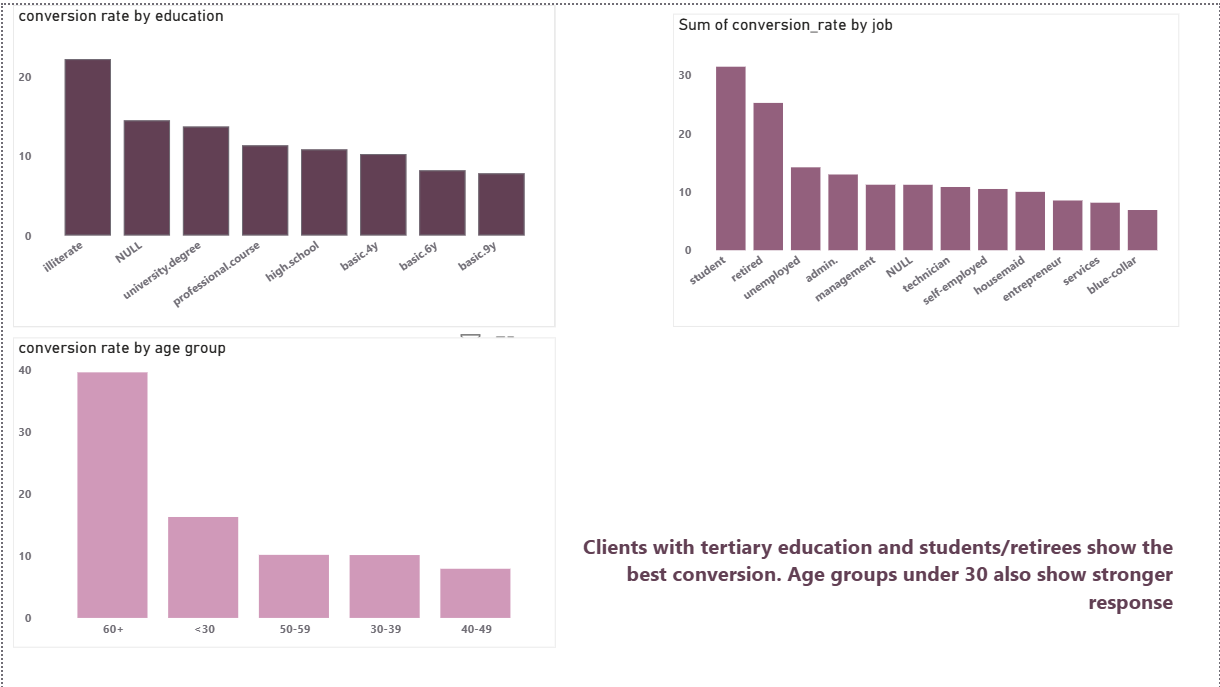

The page's visual inventory and layout, read from the dashboard file:
{"tool":"powerbi","page":{"name":"Deep Insights","canvas":[1280,720],"ordinal":1},"visuals":[{"type":"clusteredColumnChart","title":" conversion rate by education","fields":{"Category":["q3_conversion_education.education"],"Y":["Sum(q3_conversion_education.conversion_rate)"]},"box":[11,0,570.8,338.9],"z":0},{"type":"clusteredColumnChart","fields":{"Category":["q4_conversion_job.job"],"Y":["Sum(q4_conversion_job.conversion_rate)"]},"box":[705.3,9.6,532.4,329.3],"z":1000},{"type":"clusteredColumnChart","title":"conversion rate by age group","fields":{"Category":["q9_conversion_age.age_group"],"Y":["Sum(q9_conversion_age.conversion_rate)"]},"box":[11,349.9,570.8,326.6],"z":2000},{"type":"textbox","box":[598.3,550.3,638.1,126.2],"z":3000}]}

Visuals, with their boxes in screenshot pixels (x1, y1, x2, y2), scaled from the page's 1280x720 canvas onto the 1220x687 screenshot:
" conversion rate by education" clusteredColumnChart: <region>10, 0, 555, 323</region>
clusteredColumnChart - q4_conversion_job.job x Sum(q4_conversion_job.conversion_rate): <region>672, 9, 1180, 323</region>
"conversion rate by age group" clusteredColumnChart: <region>10, 334, 555, 645</region>
textbox: <region>570, 525, 1178, 645</region>
